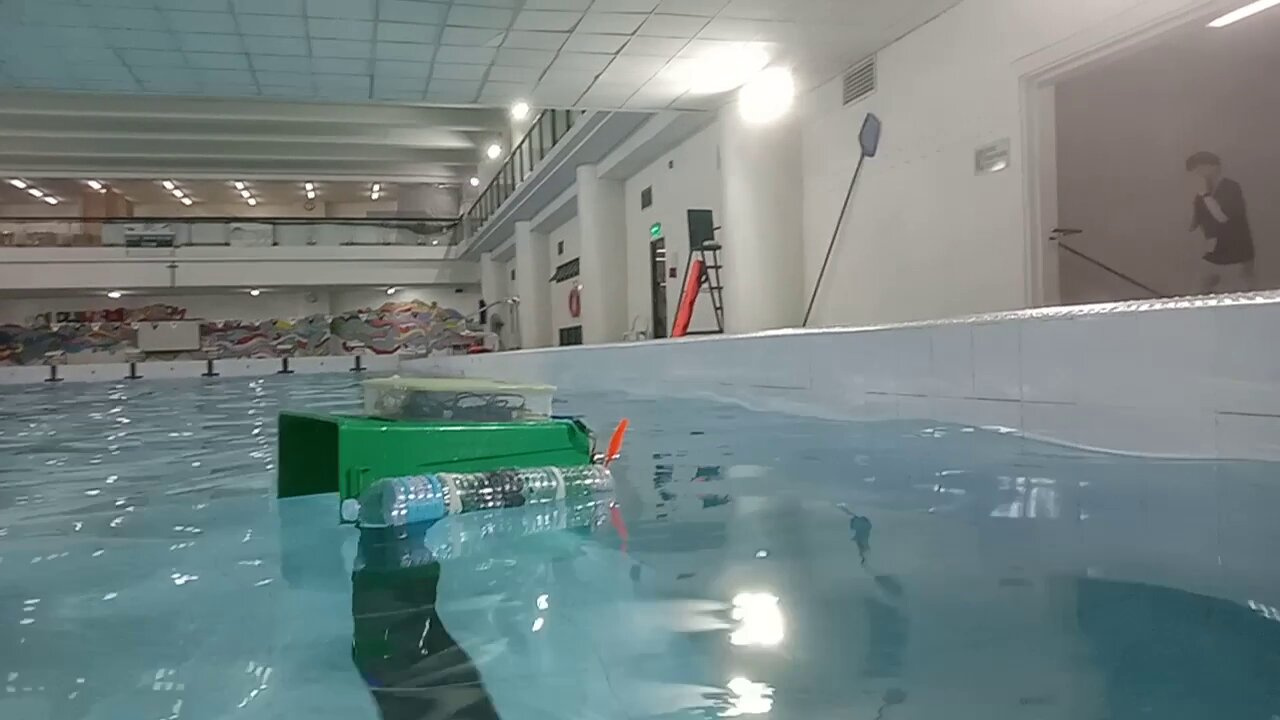drone: (277, 377, 629, 526)
